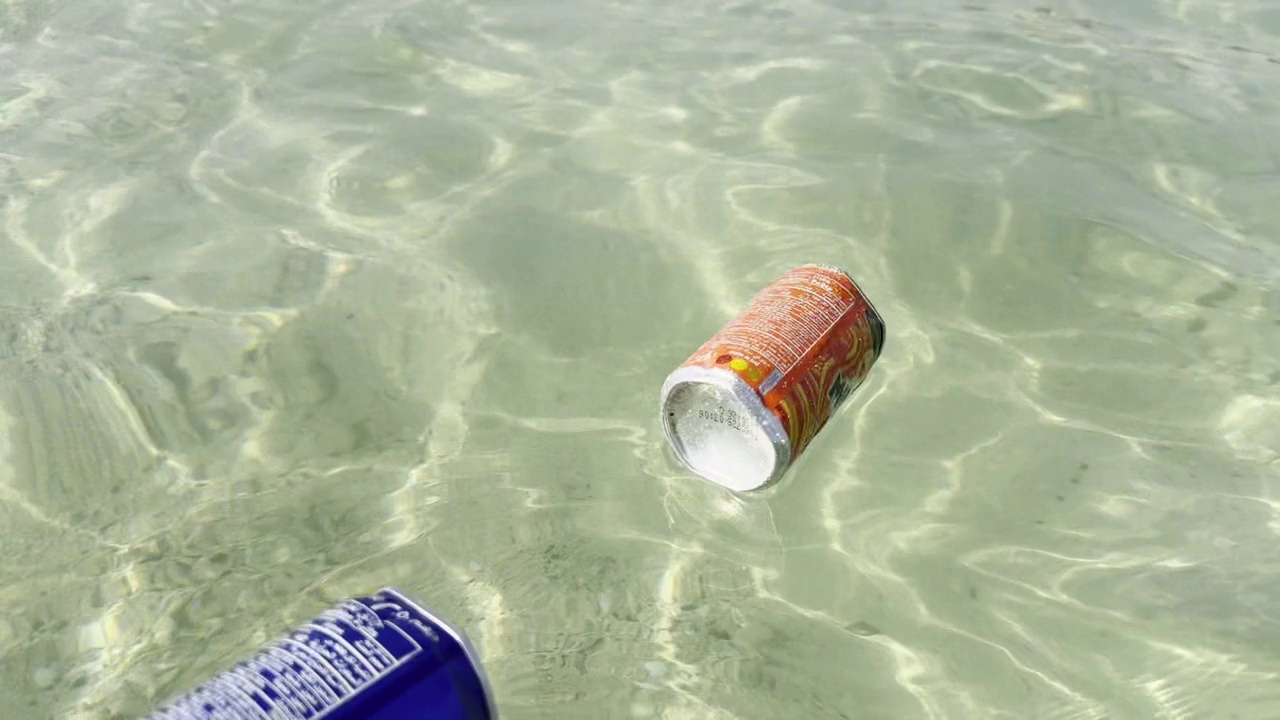debris: (649, 248, 896, 504), (109, 587, 513, 720)
